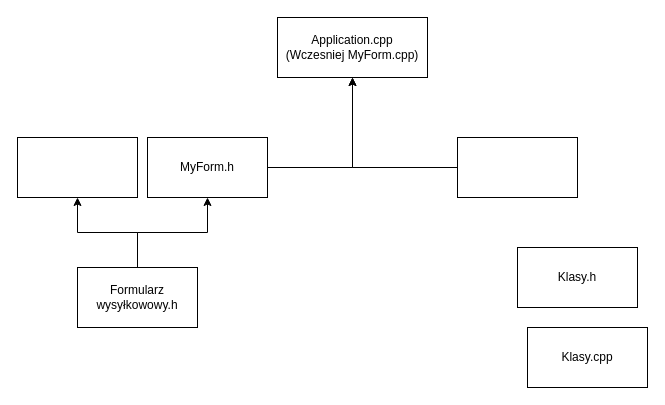
Image size: 665x405. Some labels were removed from this diagram. The centre of each missing label's shape, as x and y in pixels:
"Formularz wysyłkowowy.cpp" belongs at point 77,167.
"Funkcje.cpp" belongs at point 517,167.
